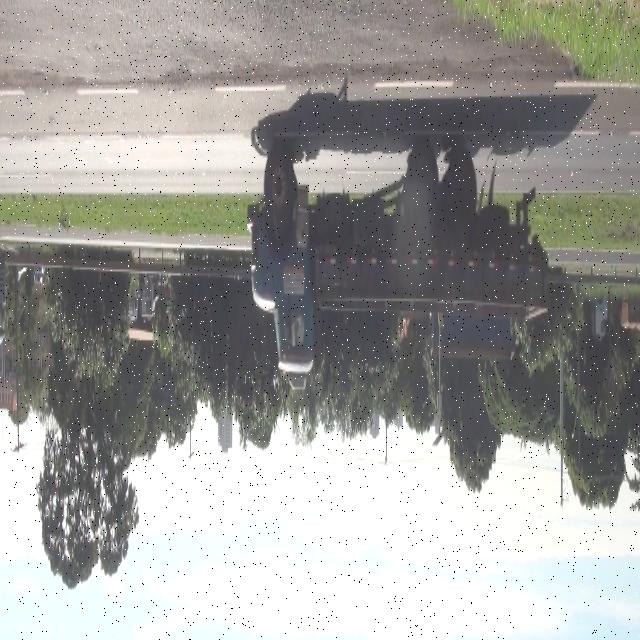-axle: (407, 142, 440, 229), (445, 146, 476, 234), (264, 142, 294, 226)
